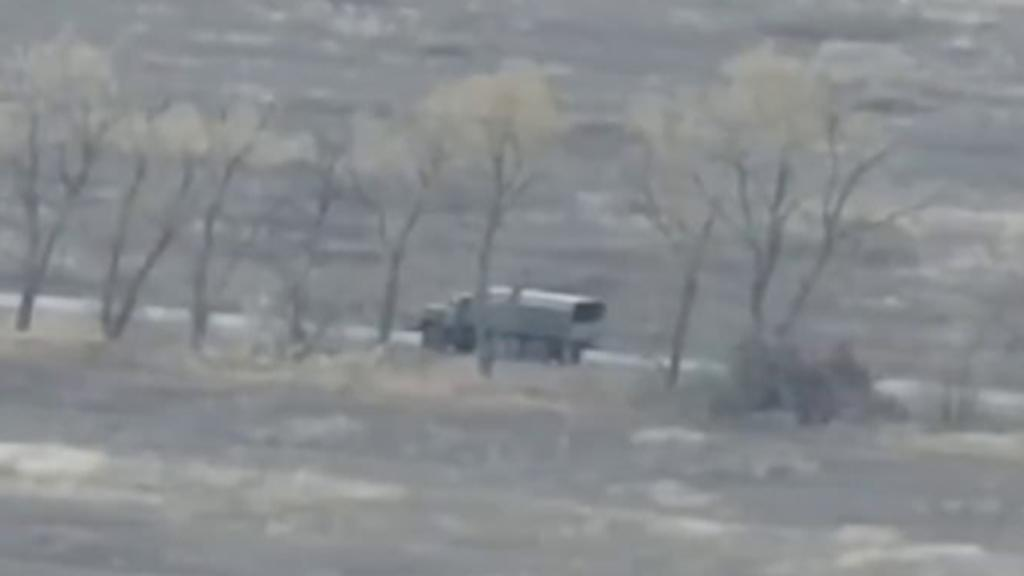TRUCK: (408, 280, 608, 372)
